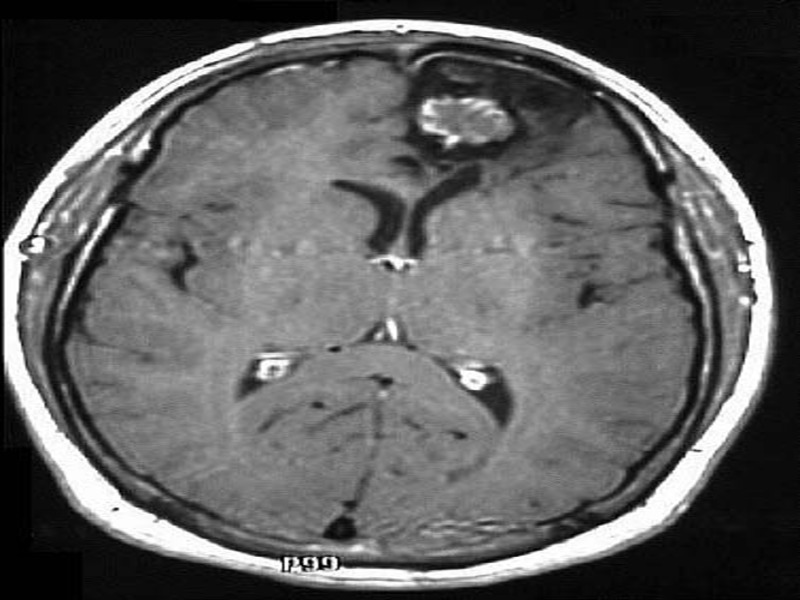tumor: (411, 79, 522, 170)
